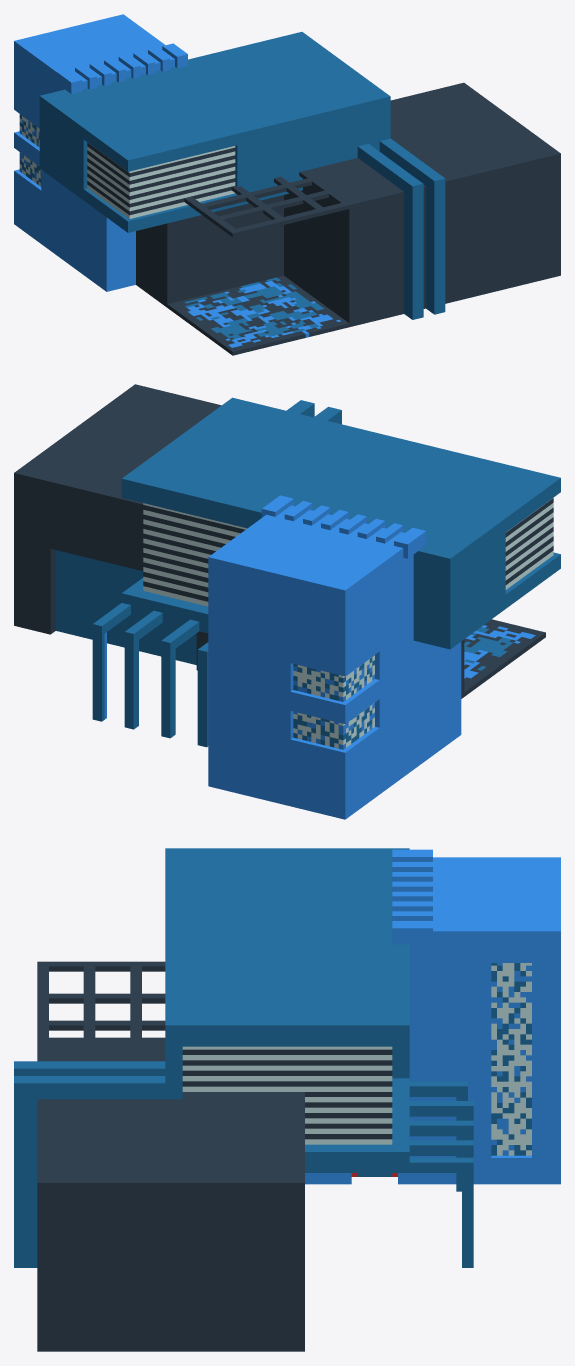
File: home2.obj
The picture shows the model from 3 angles, top to bottom: view 1: azimuth 30°, elevation 25°; view 2: azimuth 150°, elevation 25°; view 3: azimuth 270°, elevation 25°; orthographic projection. The views are drawn at different scales.
Size of the model in its own units: 106 by 49 by 94.
Materials: 1 (1 with a texture image).
